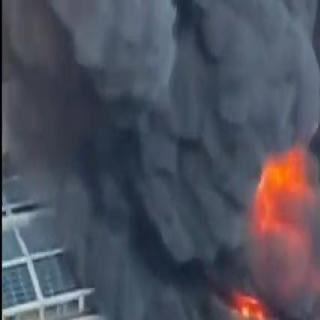smoke: (3, 2, 229, 320)
